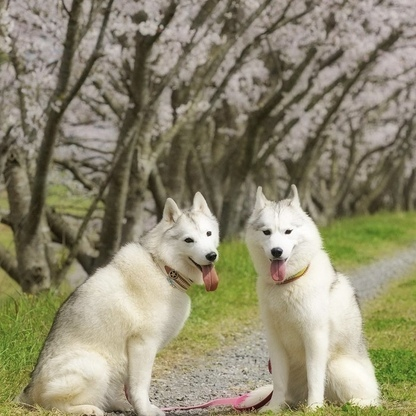husky: (16, 186, 226, 416), (239, 180, 385, 416)
